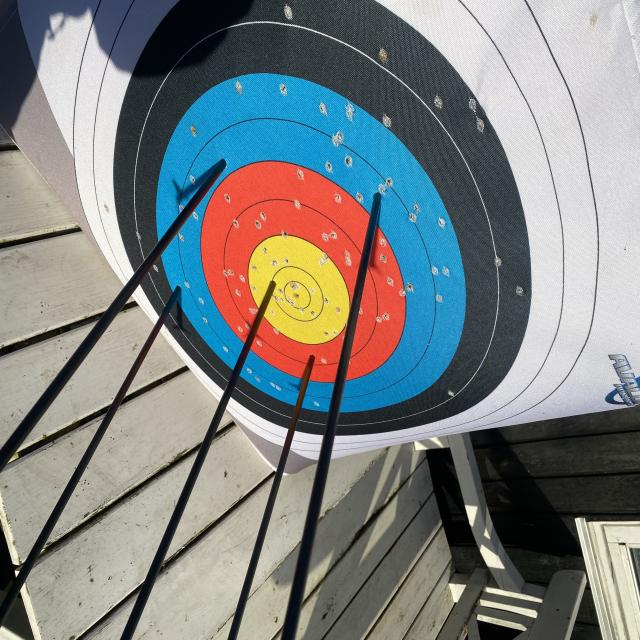Arrow_Blue: (208, 136, 236, 197), (364, 176, 396, 219), (165, 276, 190, 309)
Arrow_Red: (301, 346, 322, 378)
Arrow_Yellow: (261, 271, 289, 298)
